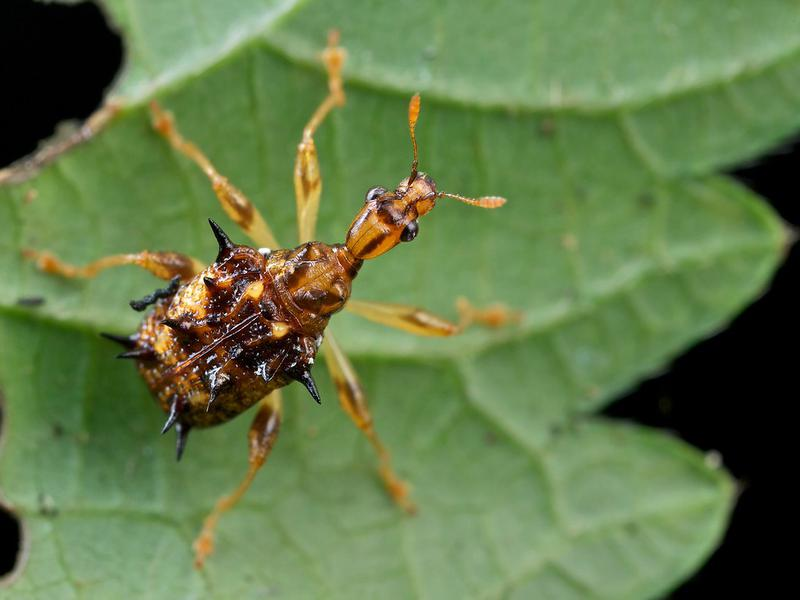Spiny_beetle: (97, 162, 477, 487)
